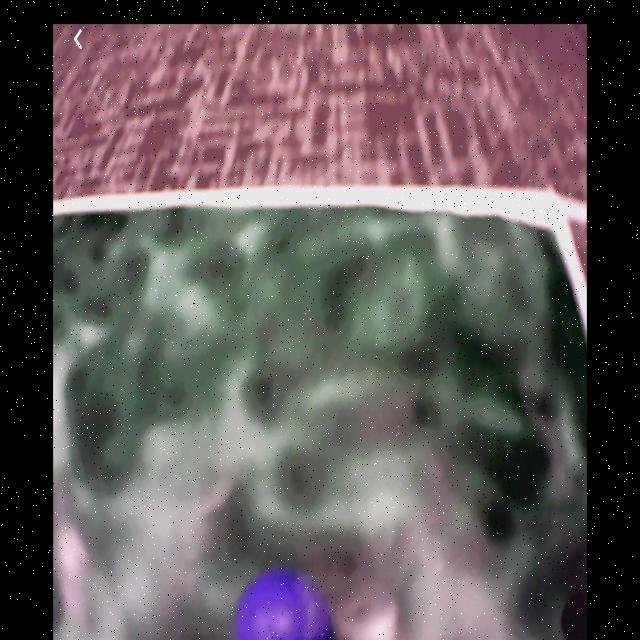ball: (235, 571, 333, 640)
